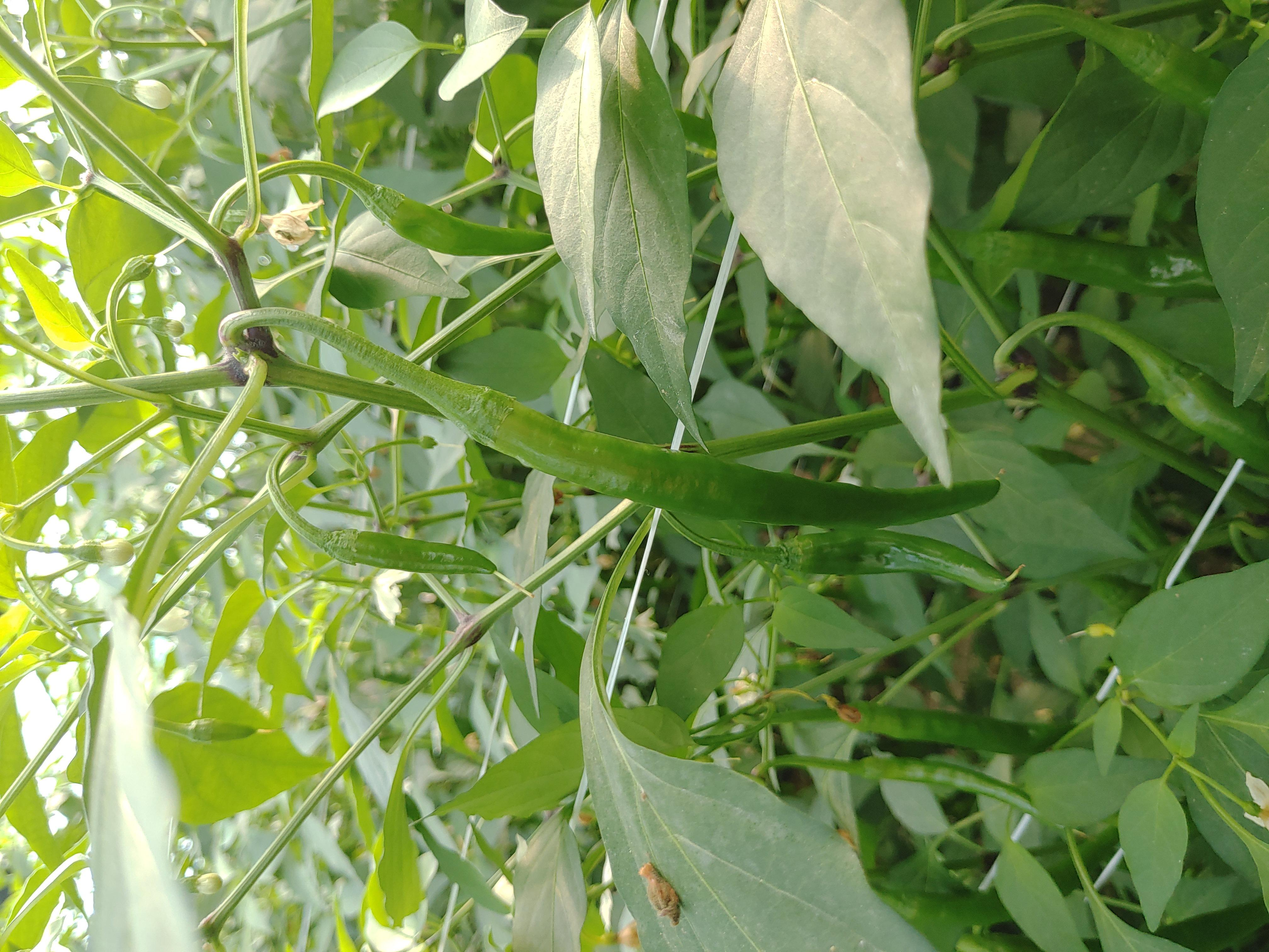Buah Cabai Sehat: (439, 369, 1006, 558), (364, 174, 576, 269), (774, 528, 1014, 593), (310, 519, 497, 600)
Daun Cabai Sehat: (574, 616, 939, 952), (721, 0, 963, 491), (532, 0, 713, 462)
